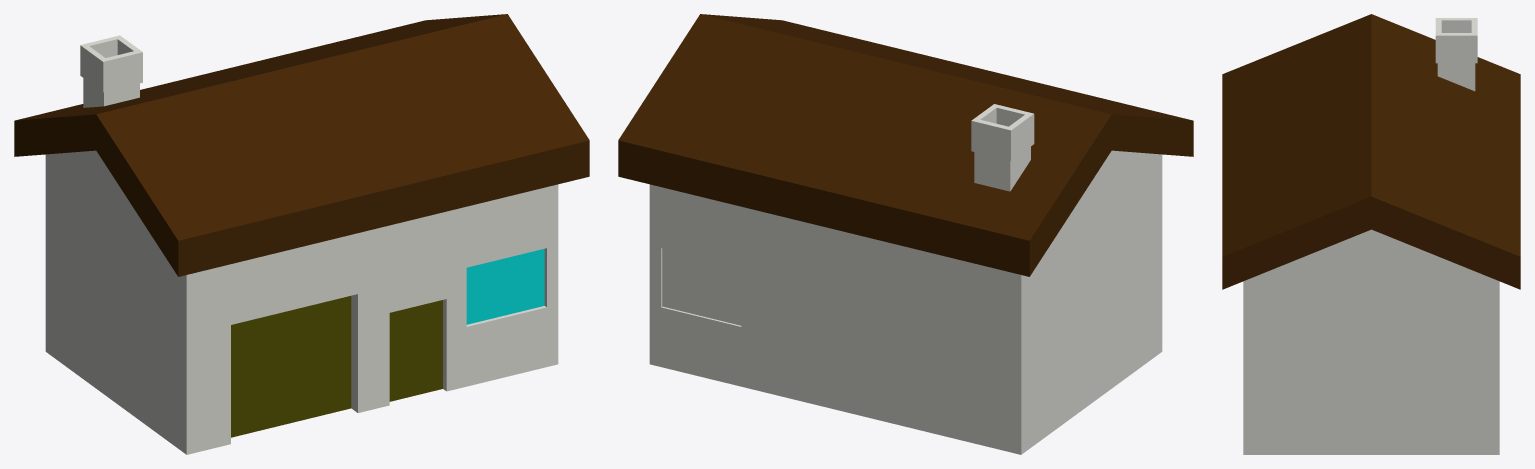
Rendered from HouseSchool.fbx.
The picture shows the model from 3 angles, left to right: view 1: azimuth 30°, elevation 25°; view 2: azimuth 150°, elevation 25°; view 3: azimuth 270°, elevation 25°; orthographic projection. The views are drawn at different scales.
Visible parts, largest first — view 1: Mesh; view 2: Mesh; view 3: Mesh.
Boxes of the visible parts, left/top/right/bottom form: Mesh: left=14, top=14, right=589, bottom=454; Mesh: left=618, top=14, right=1193, bottom=454; Mesh: left=1222, top=14, right=1520, bottom=454.
Size of the model in its own units: 3.37 by 2.43 by 2.33.
